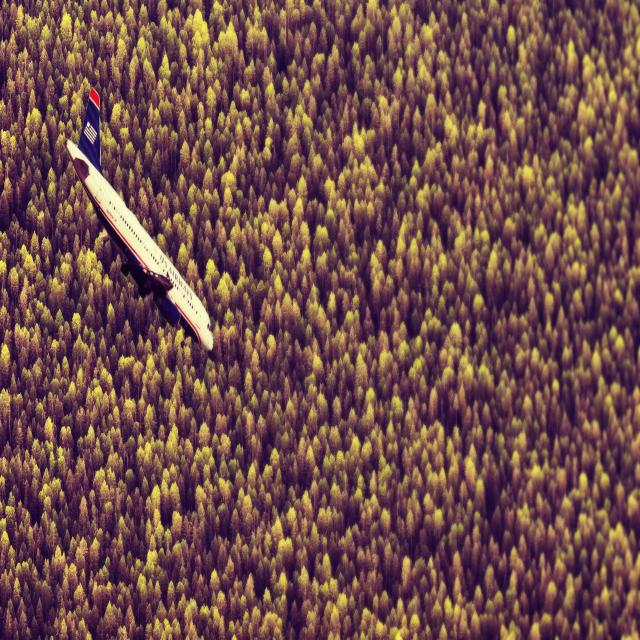airplane: (65, 86, 214, 353)
